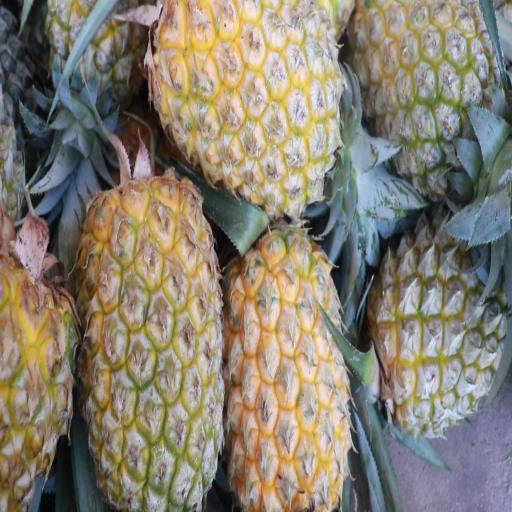------------------------------: (378, 220, 507, 432)
Pineapple - v8 v1: (83, 180, 221, 512), (156, 0, 344, 208), (228, 235, 348, 511), (356, 0, 498, 179)
